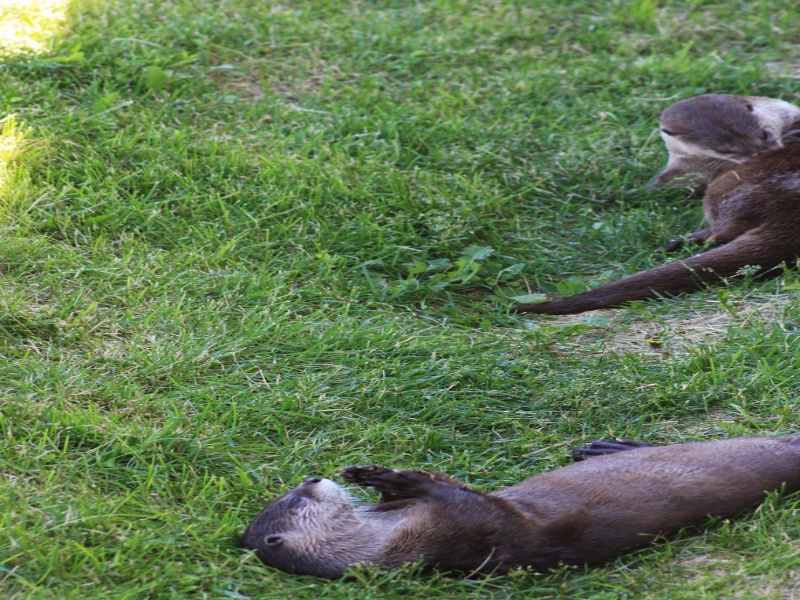minkish: (235, 423, 800, 579), (483, 80, 800, 316)
